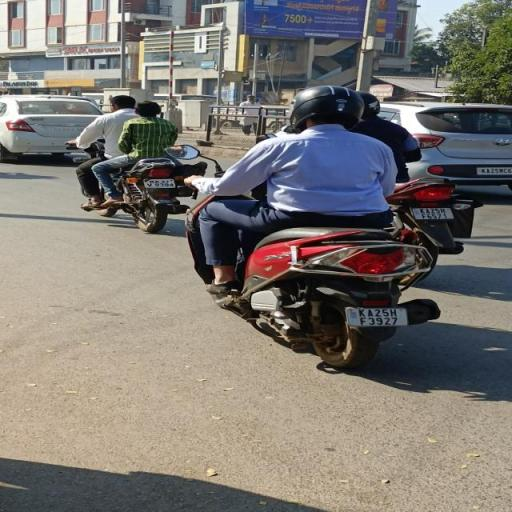bike: (68, 92, 197, 234)
numberplate: (344, 308, 407, 326), (144, 178, 178, 188)
withouthelmet: (135, 102, 161, 116), (112, 95, 134, 108)
